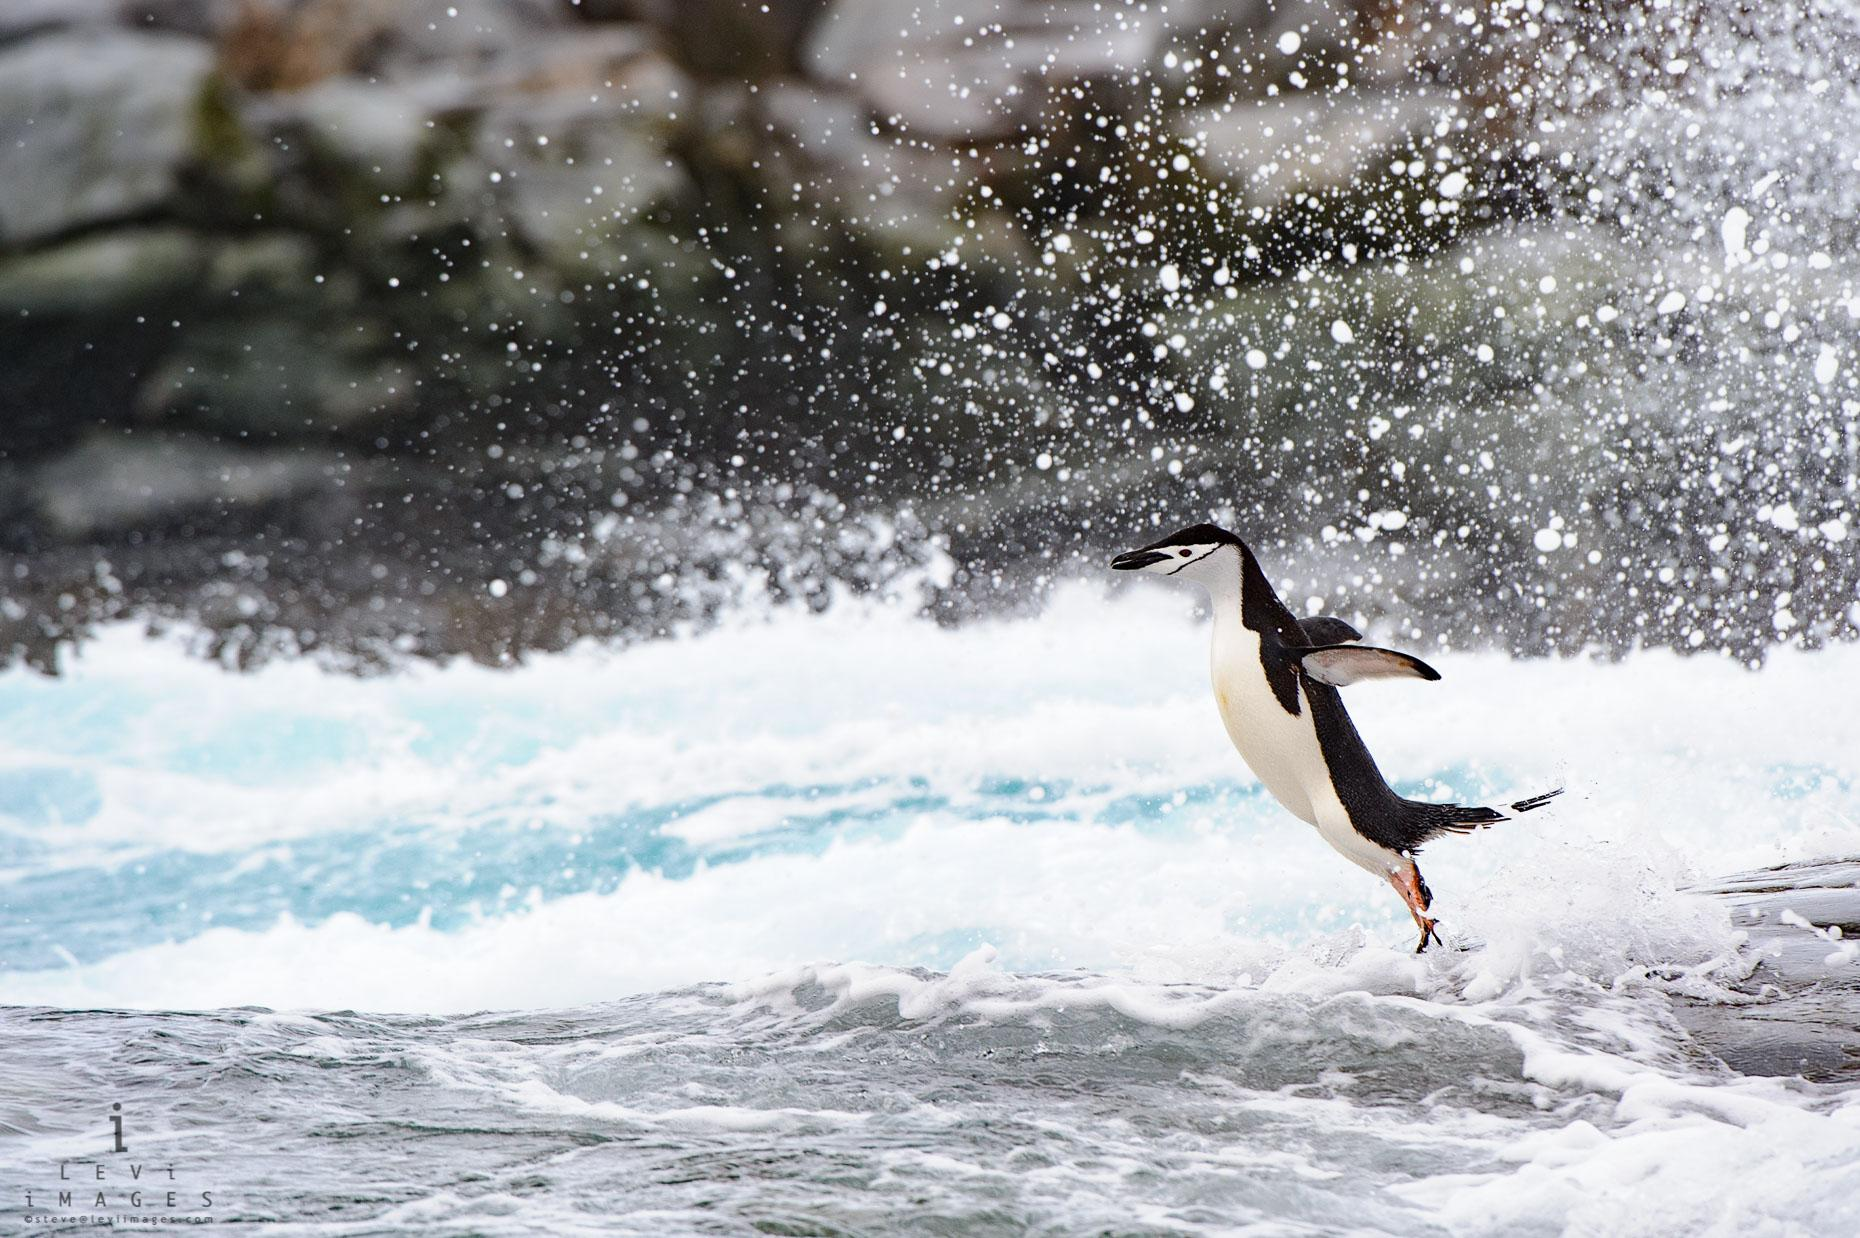chinstrap: (1049, 497, 1573, 991)
